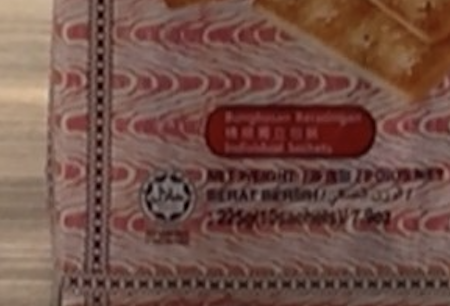halal: (152, 181, 187, 214)
